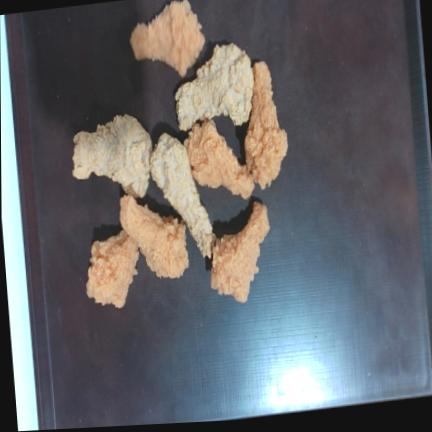chicken: (150, 133, 214, 255), (175, 43, 253, 130), (73, 114, 152, 197), (210, 202, 269, 301), (130, 0, 204, 76), (120, 195, 188, 277), (184, 119, 254, 198), (245, 60, 287, 187), (86, 230, 138, 307)
